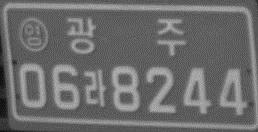0: (18, 62, 48, 109)
2: (145, 65, 177, 115)
4: (181, 68, 213, 115), (218, 68, 246, 115)
6: (51, 63, 81, 111)
8: (110, 64, 141, 112)
광주_D: (66, 17, 187, 56)
라: (83, 69, 107, 108)
영: (18, 17, 49, 53)
